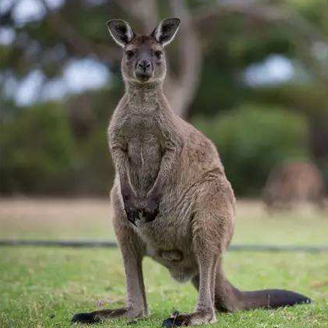kangaroo: (68, 13, 316, 325)
